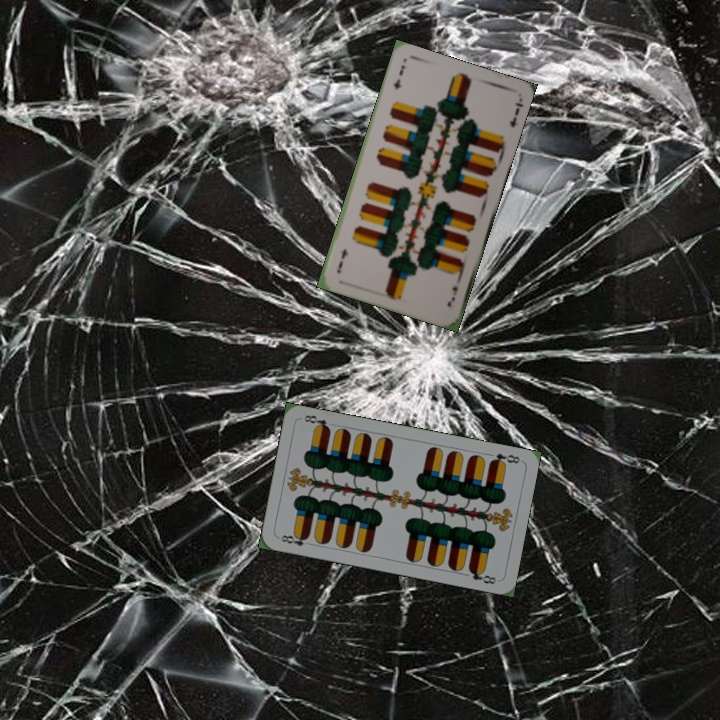E7: (443, 273, 464, 309), (389, 61, 408, 92)
E8: (275, 530, 315, 549), (486, 449, 522, 468)
